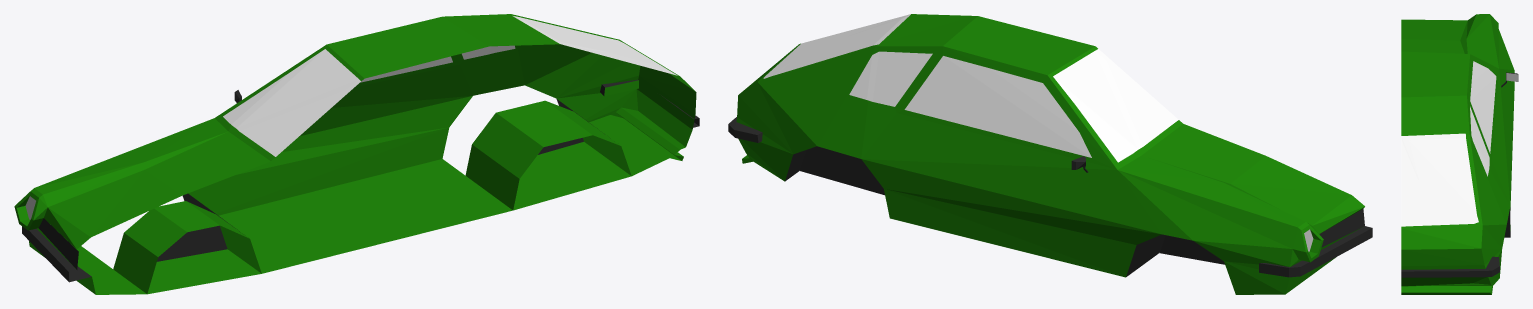
The model's file is Ford Pinto (colored V1).glb.
The picture shows the model from 3 angles, left to right: view 1: azimuth 30°, elevation 25°; view 2: azimuth 150°, elevation 25°; view 3: azimuth 270°, elevation 25°; orthographic projection. The views are drawn at different scales.
Visible parts, largest first — view 1: Cube; view 2: Cube; view 3: Cube.
Part boxes in pixels (left/top/right/bottom): Cube: left=14, top=14, right=699, bottom=294; Cube: left=728, top=14, right=1372, bottom=294; Cube: left=1401, top=14, right=1518, bottom=294.
Size of the model in its own units: 4.18 by 1.09 by 0.8738.
